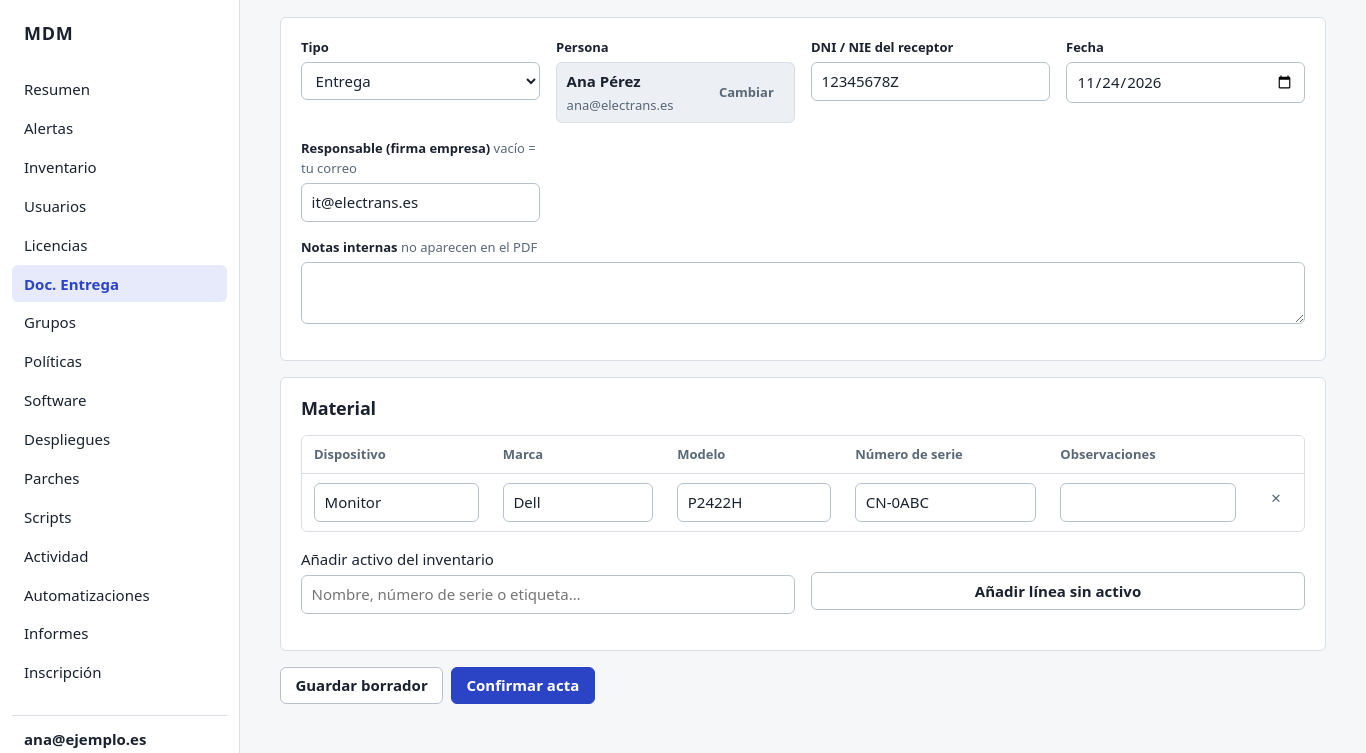
Test: Doc. Entrega › confirma un borrador y después solo deja descargar el PDF
(page scrolled)
Click the button "Confirmar acta". click: (523, 686)
box: [451, 667, 595, 704]
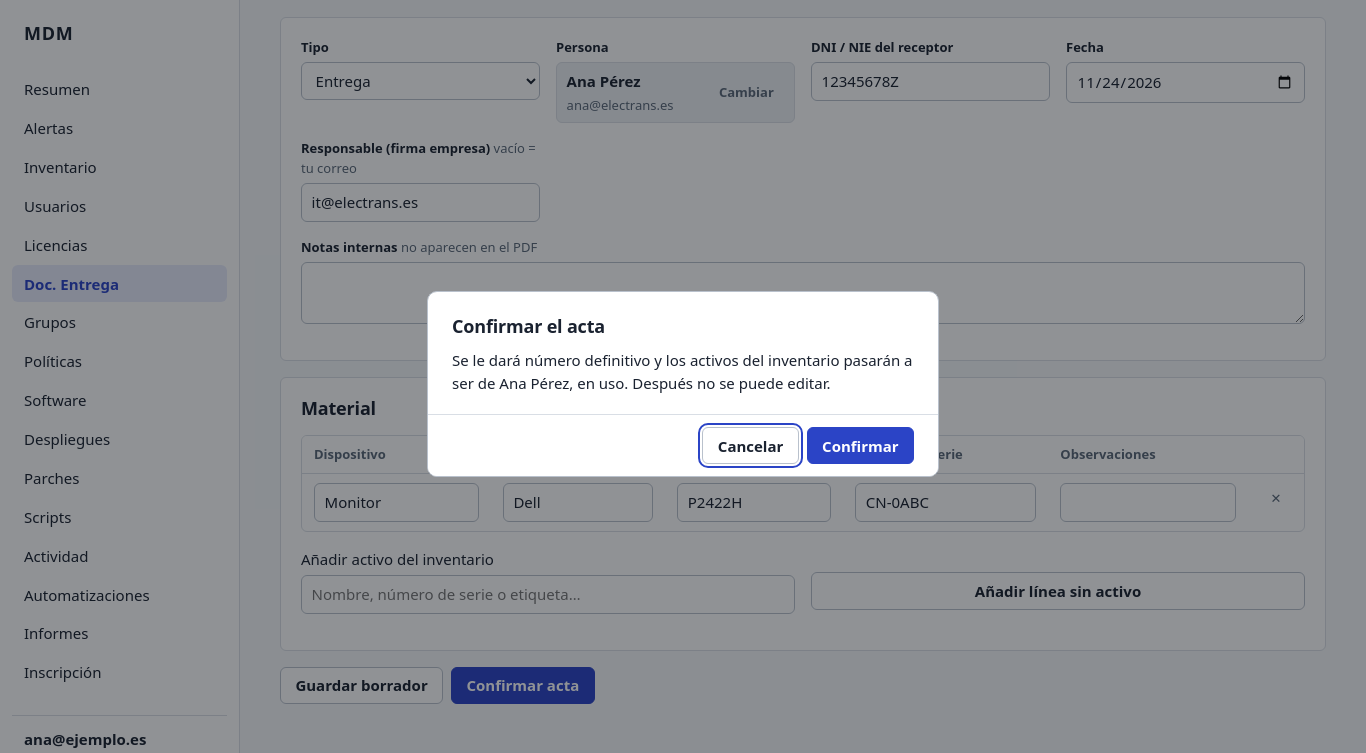
Click the button "Confirmar". click: (860, 446)
box: [807, 427, 914, 464]
(page scrolled)
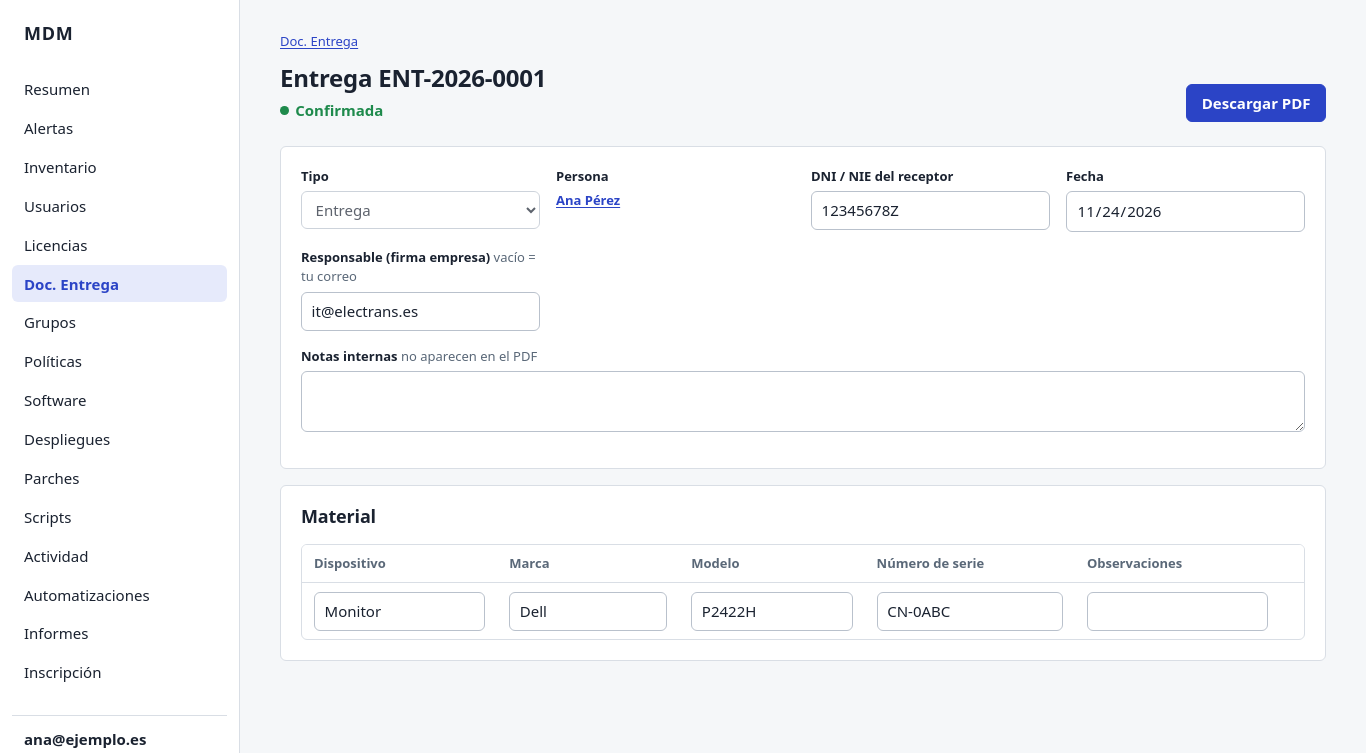
Expected: the heading "Entrega ENT-2026-0001" is shown, [280, 64, 546, 92]
Expected: the button "Descargar PDF" is shown, [1186, 84, 1326, 122]
Expected: the button "Guardar borrador" is gone
